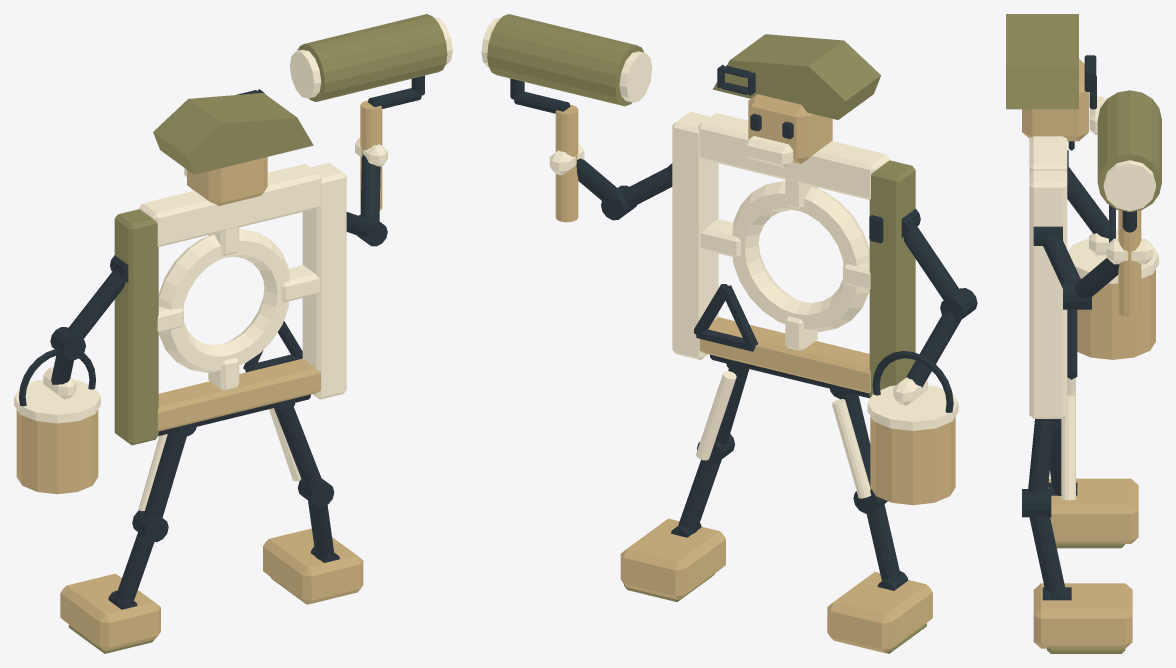
3 renders of one model, left to right at view 1: azimuth 30°, elevation 25°; view 2: azimuth 150°, elevation 25°; view 3: azimuth 270°, elevation 25°, orthographic. The views are drawn at different scales.
Parts seen in each view (by area): view 1: template_left_edge, stencil_beret, template_right_edge, round_stencil_aperture, roller_sponge, template_top, paint_can, template_bottom, L_shoe, R_shoe, painter_face, can_rim (+15 smaller); view 2: round_stencil_aperture, template_right_edge, template_left_edge, stencil_beret, roller_sponge, template_top, paint_can, R_shoe, L_shoe, template_bottom, painter_face, can_rim (+19 smaller); view 3: template_right_edge, stencil_beret, R_shoe, L_shoe, roller_sponge, paint_can, painter_face, roller_cap_1.04, roller_grip, R_shin, R_thigh, R_divider_edge (+18 smaller).
Boxes of the visible parts, box(x1,y1,x2,y2) form: template_left_edge: box(114, 209, 158, 445); stencil_beret: box(153, 93, 313, 174); template_right_edge: box(302, 162, 346, 399); round_stencil_aperture: box(158, 229, 289, 372); roller_sponge: box(297, 14, 447, 101); template_top: box(139, 164, 321, 246); paint_can: box(16, 409, 98, 494); template_bottom: box(157, 358, 320, 431); L_shoe: box(60, 573, 160, 651); R_shoe: box(263, 528, 363, 604); painter_face: box(187, 157, 267, 205); can_rim: box(14, 380, 100, 423); round_stencil_aperture: box(732, 181, 869, 331); template_right_edge: box(672, 111, 718, 359); template_left_edge: box(869, 160, 915, 397); stencil_beret: box(712, 34, 880, 119); roller_sponge: box(487, 14, 644, 106); template_top: box(698, 112, 889, 199); paint_can: box(870, 416, 955, 505); R_shoe: box(620, 518, 725, 599); L_shoe: box(827, 572, 932, 653); template_bottom: box(699, 317, 870, 393); painter_face: box(748, 94, 832, 163); can_rim: box(867, 385, 958, 430); template_right_edge: box(1029, 170, 1067, 418); stencil_beret: box(1006, 14, 1078, 109); R_shoe: box(1033, 583, 1132, 648); L_shoe: box(1048, 478, 1138, 543); roller_sponge: box(1097, 90, 1161, 212); paint_can: box(1077, 269, 1155, 359); painter_face: box(1022, 59, 1088, 141); roller_cap_1.04: box(1103, 160, 1155, 211); roller_grip: box(1118, 210, 1141, 316); R_shin: box(1029, 515, 1065, 599); R_thigh: box(1028, 419, 1054, 494); R_divider_edge: box(1061, 395, 1075, 500).
Size of the model in its own units: 1.83 by 2.12 by 0.535.
